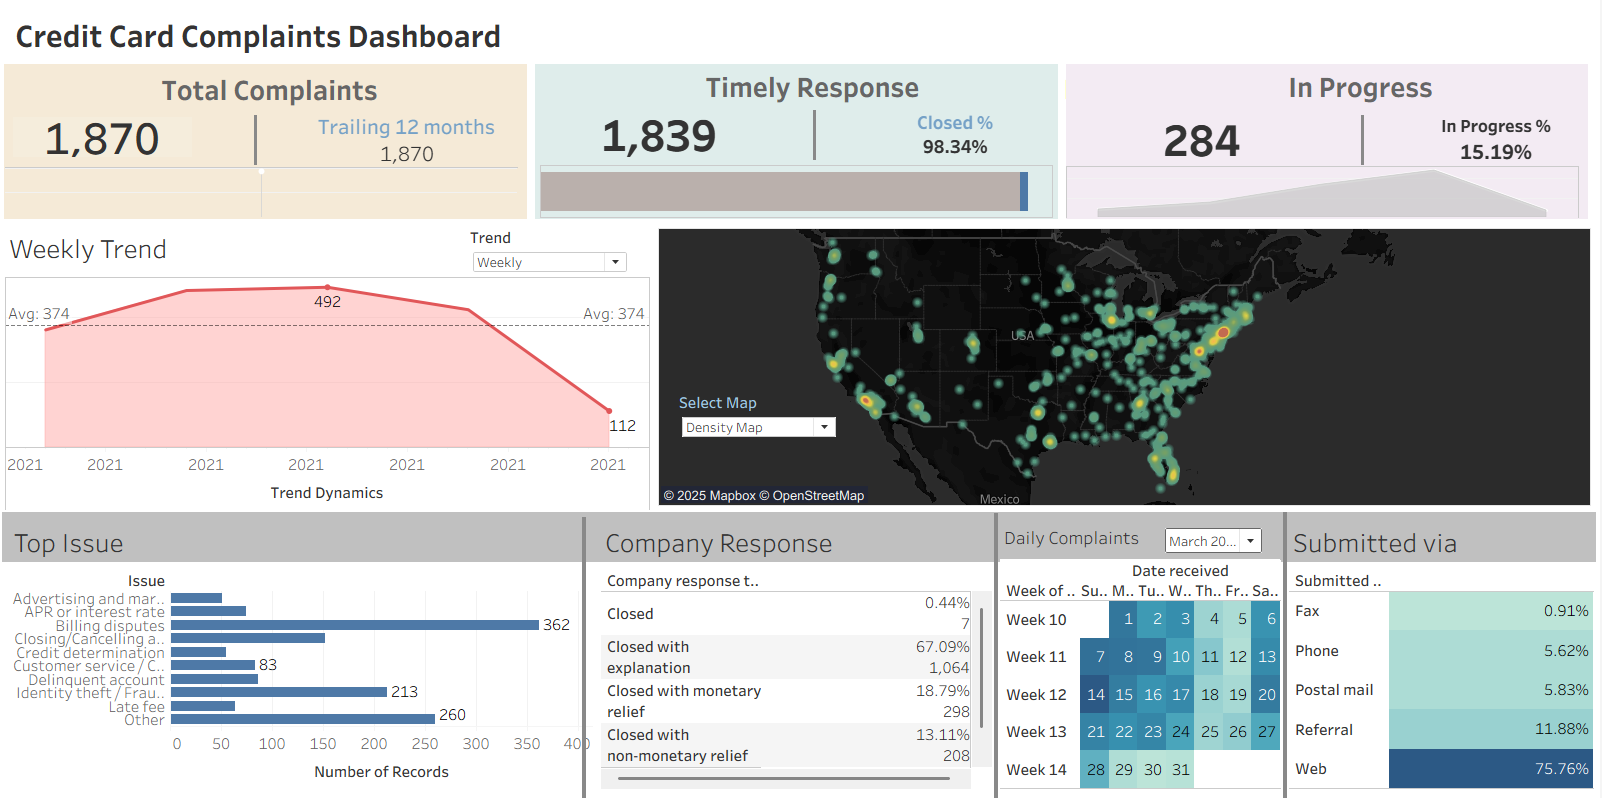

What the dashboard file says about the page in this screenshot:
{"tool":"tableau","page":{"name":"Credit Card Complaints Dashboard","canvas":[1000,1000],"units":"permille","ordinal":0},"visuals":[{"type":"title","box":[5,10,990,71.1]},{"type":"blank","box":[0,77.3,331.9,203.2]},{"type":"blank","box":[331.9,77.3,331.9,203.2]},{"type":"blank","box":[663.8,77.3,331.2,203.2]},{"type":"text","box":[423.1,82.3,169.4,56.1]},{"type":"text","box":[606.2,84.8,169.4,56.1]},{"type":"text","box":[83.8,86,169.4,56.1]},{"type":"text","box":[769.4,88.5,161.9,43.6]},{"type":"worksheet","title":"Timely Response","mark":"Automatic","box":[355.6,138.4,113.1,62.3]},{"type":"worksheet","title":"In Progress %","mark":"Automatic","box":[881.9,138.4,106.2,76.1]},{"type":"worksheet","title":"Rolling 12-months","mark":"Automatic","box":[192.5,139.7,124.4,76.1]},{"type":"blank","box":[508.1,139.7,1.9,62.3]},{"type":"worksheet","title":"Closed %","mark":"Automatic","box":[544.4,139.7,105.6,62.3]},{"type":"blank","box":[158.8,145.9,1.9,62.3]},{"type":"blank","box":[850.6,145.9,1.9,62.3]},{"type":"worksheet","title":"Total Complaints","mark":"Automatic","box":[8.1,148.4,111.9,49.9]},{"type":"worksheet","title":"In Progress Complaints","mark":"Automatic","box":[695.6,150.9,111.9,49.9]},{"type":"worksheet","title":"Progress bar","mark":"Bar","cols":["Calculation_165225838840569862","Calculation_165225838839586820"],"box":[337.5,208.2,320.6,66.1]},{"type":"worksheet","title":"In progress Sparkle","mark":"Area","rows":["Calculation_165225838841942023","Calculation_165225838841942023"],"cols":["Date received"],"box":[666.2,209.5,320.6,64.8]},{"type":"worksheet","title":"Complaints Sparkline","mark":"Area","rows":["Number of Records","Number of Records"],"cols":["Date received"],"box":[3.1,210.7,320.6,63.6]},{"type":"blank","box":[2.5,213.2,266.2,58.6]},{"type":"blank","box":[275,213.2,266.2,58.6]},{"type":"blank","box":[548.1,214.5,266.2,58.6]},{"type":"worksheet","title":"Trend","mark":"Line","rows":["Number of Records","Number of Records"],"cols":["Calculation_165225838912434185"],"box":[0.6,280.6,408.1,364.1]},{"type":"worksheet","title":"Filled Map","mark":"Multipolygon","box":[408.8,280.6,588.1,1.2]},{"type":"worksheet","title":"Density Map","mark":"Heatmap","box":[408.8,281.8,588.1,356.6]},{"type":"parameter","param":"[Parameters].[Parameter 2]","box":[293.8,285.5,100,59.9]},{"type":"parameter","param":"[Parameters].[Parameter 3]","box":[424.4,491.3,100,59.9]},{"type":"blank","box":[1.2,640.9,996.2,62.3]},{"type":"worksheet","title":"Top Issue","mark":"Automatic","rows":["Issue"],"cols":["Number of Records"],"box":[3.8,647.1,369.4,344.1]},{"type":"worksheet","title":"Company Response","mark":"Automatic","rows":["Company response to consumer"],"box":[373.1,647.1,249.4,344.1]},{"type":"worksheet","title":"Daily Complaints","mark":"Square","rows":["Date received"],"cols":["Date received"],"box":[622.5,647.1,180.6,344.1]},{"type":"worksheet","title":"Submitted via","mark":"Square","rows":["Submitted via"],"box":[803.1,647.1,195.6,344.1]},{"type":"filter","title":"Daily Complaints","param":"[federated.0cchohc0ozw5nr123x1di0llbtqs].[my:Date received:ok]","box":[726.2,659.6,64.4,33.7]}]}

Visuals, with their boxes on the dashboard's canvas, which has no fixed pixel size, in thousandths of its width and height (x1, y1, x2, y2). These are canvas units, not pixel positions in the 1602x798 screenshot, which may show the page scaled, cropped or inside an application window:
title: 5/10/995/81
blank: 0/77/332/280
blank: 332/77/664/280
blank: 664/77/995/280
text: 423/82/592/138
text: 606/85/776/141
text: 84/86/253/142
text: 769/88/931/132
"Timely Response" worksheet: 356/138/469/201
"In Progress %" worksheet: 882/138/988/214
"Rolling 12-months" worksheet: 192/140/317/216
blank: 508/140/510/202
"Closed %" worksheet: 544/140/650/202
blank: 159/146/161/208
blank: 851/146/852/208
"Total Complaints" worksheet: 8/148/120/198
"In Progress Complaints" worksheet: 696/151/808/201
"Progress bar" worksheet (Bar marks): 338/208/658/274
"In progress Sparkle" worksheet (Area marks): 666/210/987/274
"Complaints Sparkline" worksheet (Area marks): 3/211/324/274
blank: 2/213/269/272
blank: 275/213/541/272
blank: 548/214/814/273
"Trend" worksheet (Line marks): 1/281/409/645
"Filled Map" worksheet (Multipolygon marks): 409/281/997/282
"Density Map" worksheet (Heatmap marks): 409/282/997/638
parameter: 294/286/394/345
parameter: 424/491/524/551
blank: 1/641/997/703
"Top Issue" worksheet: 4/647/373/991
"Company Response" worksheet: 373/647/622/991
"Daily Complaints" worksheet (Square marks): 622/647/803/991
"Submitted via" worksheet (Square marks): 803/647/999/991
"Daily Complaints" filter: 726/660/791/693
